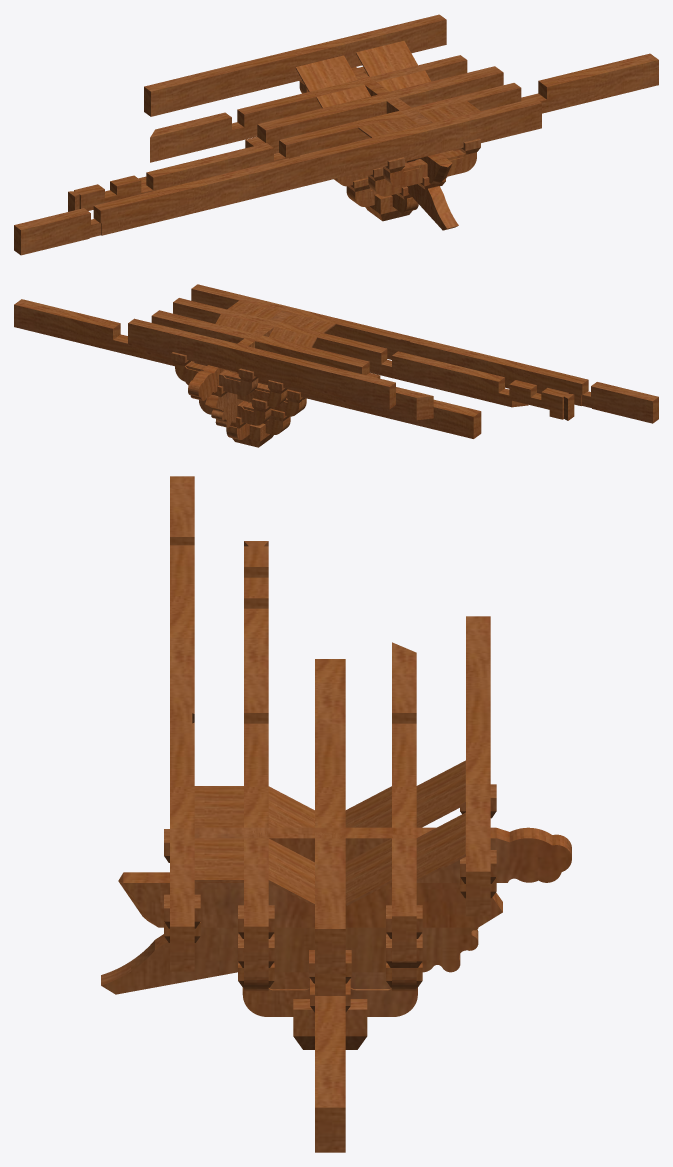
The model's file is 单昂三踩斗拱.fbx.
The picture shows the model from 3 angles, top to bottom: view 1: azimuth 30°, elevation 25°; view 2: azimuth 150°, elevation 25°; view 3: azimuth 270°, elevation 25°; orthographic projection. The views are drawn at different scales.
Parts seen in each view (by area): view 1: Group39, Group42, Group40, Group41, Group44, Group43, Group27, Group35, Group38, Group45, Group3, Group33 (+7 smaller); view 2: Group39, Group40, Group42, Group43, Group44, Group41, Group3, Group14, Group4, Group26, Group33, Group36 (+8 smaller); view 3: Group39, Group40, Group45, Group28, Group3, Group41, Group44, Group43, Group42, Group18, Group36, Group38 (+7 smaller).
Boxes of the visible parts, box(x1,y1,x2,y2) form: Group39: box(14, 98, 541, 255); Group42: box(144, 14, 446, 116); Group40: box(68, 83, 521, 211); Group41: box(150, 55, 467, 162); Group44: box(245, 66, 503, 153); Group43: box(138, 53, 658, 186); Group27: box(383, 149, 476, 187); Group35: box(295, 55, 357, 91); Group38: box(356, 41, 417, 76); Group45: box(407, 184, 458, 230); Group3: box(351, 67, 431, 125); Group33: box(358, 116, 420, 137); Group39: box(191, 284, 658, 423); Group40: box(173, 298, 574, 420); Group42: box(128, 318, 395, 409); Group43: box(14, 299, 481, 438); Group44: box(151, 310, 380, 378); Group41: box(146, 350, 433, 420); Group3: box(188, 311, 292, 400); Group14: box(175, 362, 258, 395); Group4: box(199, 398, 271, 425); Group26: box(185, 382, 287, 407); Group33: box(281, 313, 335, 332); Group36: box(227, 300, 281, 319); Group39: box(170, 476, 194, 971); Group40: box(244, 541, 268, 971); Group45: box(101, 927, 478, 994); Group28: box(118, 872, 502, 927); Group3: box(192, 827, 571, 882); Group41: box(392, 642, 416, 960); Group44: box(315, 723, 345, 973); Group43: box(315, 659, 345, 1152); Group42: box(466, 616, 490, 916); Group18: box(242, 972, 417, 1016); Group36: box(194, 838, 243, 882); Group38: box(416, 812, 465, 881).
Bounding box in the file's own units: 56.28 × 11.2 × 19.1.
1 material, 1 textured.
